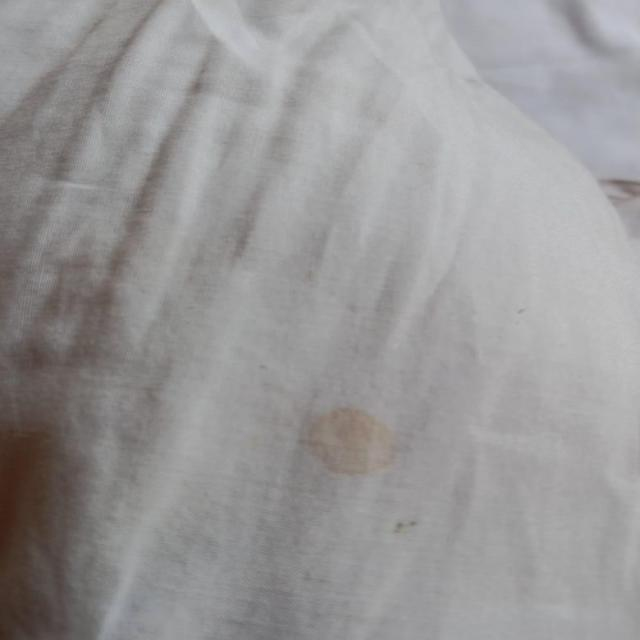stain: (294, 400, 408, 480), (376, 504, 437, 544)
